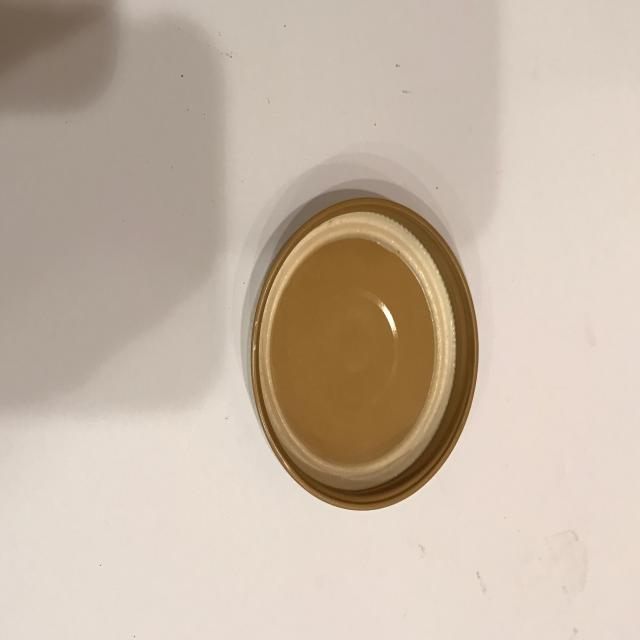metal: (249, 195, 479, 511)
